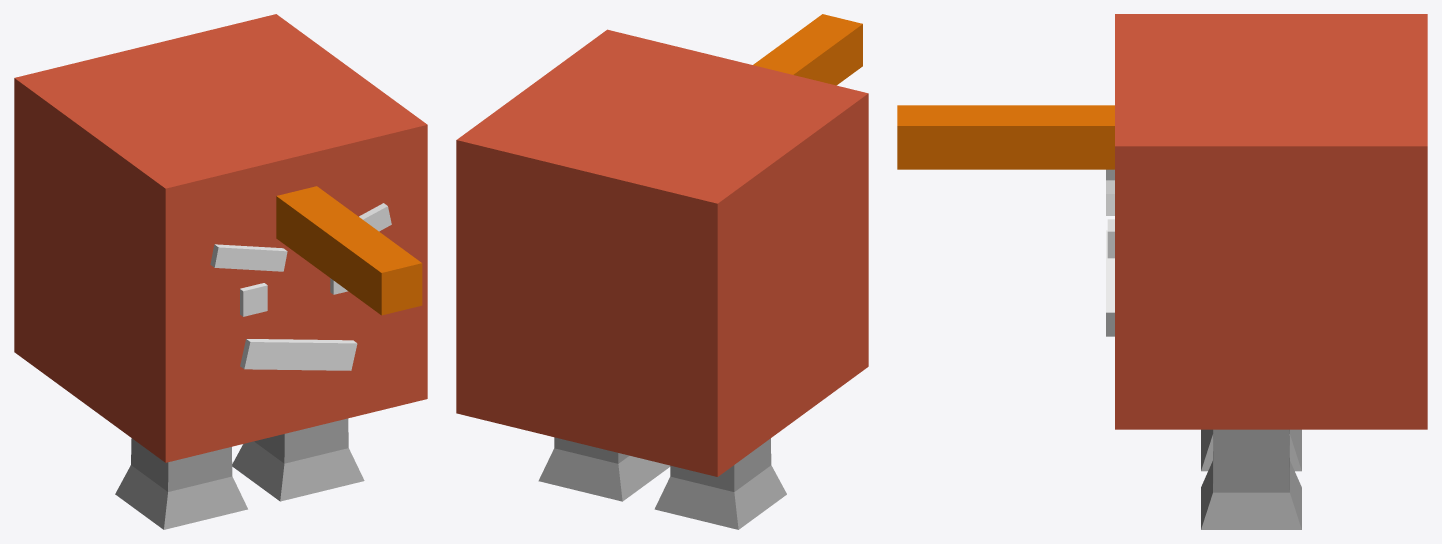
File: bigenemy.obj
3 views of the same model, side by side, from view 1: azimuth 30°, elevation 25°; view 2: azimuth 150°, elevation 25°; view 3: azimuth 270°, elevation 25° (orthographic). The views are drawn at different scales.
Size of the model in its own units: 2.59 by 3.6 by 4.39.
